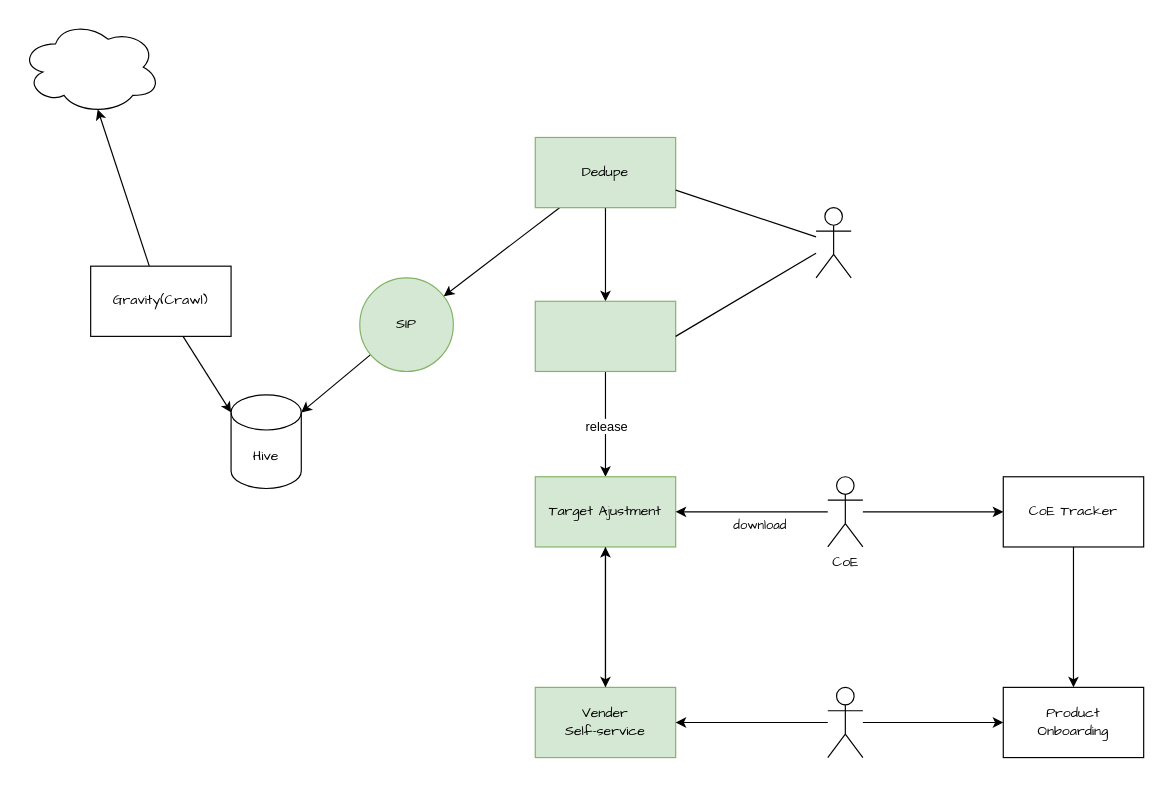
The diagram is 1164 pixels wide and 803 high, and some of its shapes have lost their labels. The centre of each missing label's shape, as x and y in pixels:
Health Check: (x=605, y=335)
naver: (x=90, y=66)
PBI: (x=833, y=242)
Vendor: (x=845, y=722)
